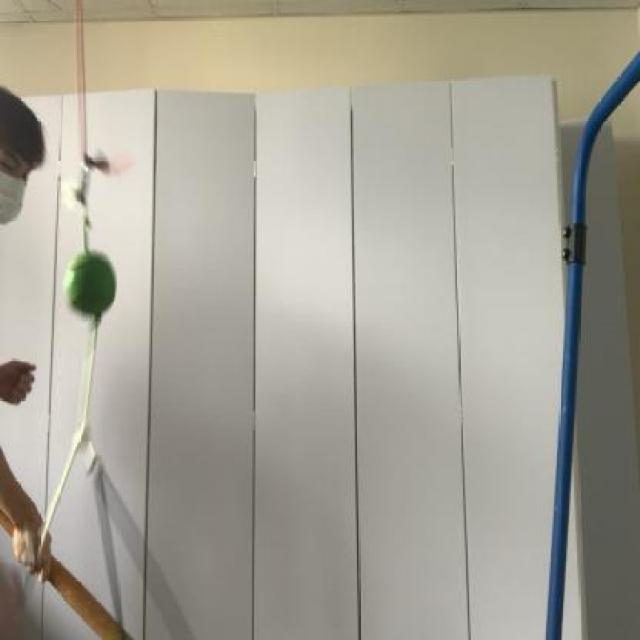baseball: (59, 238, 123, 331)
